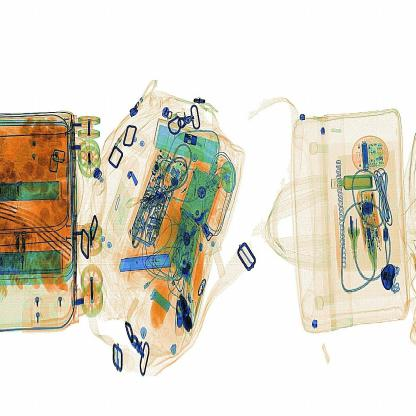pliers: (118, 244, 172, 276)
